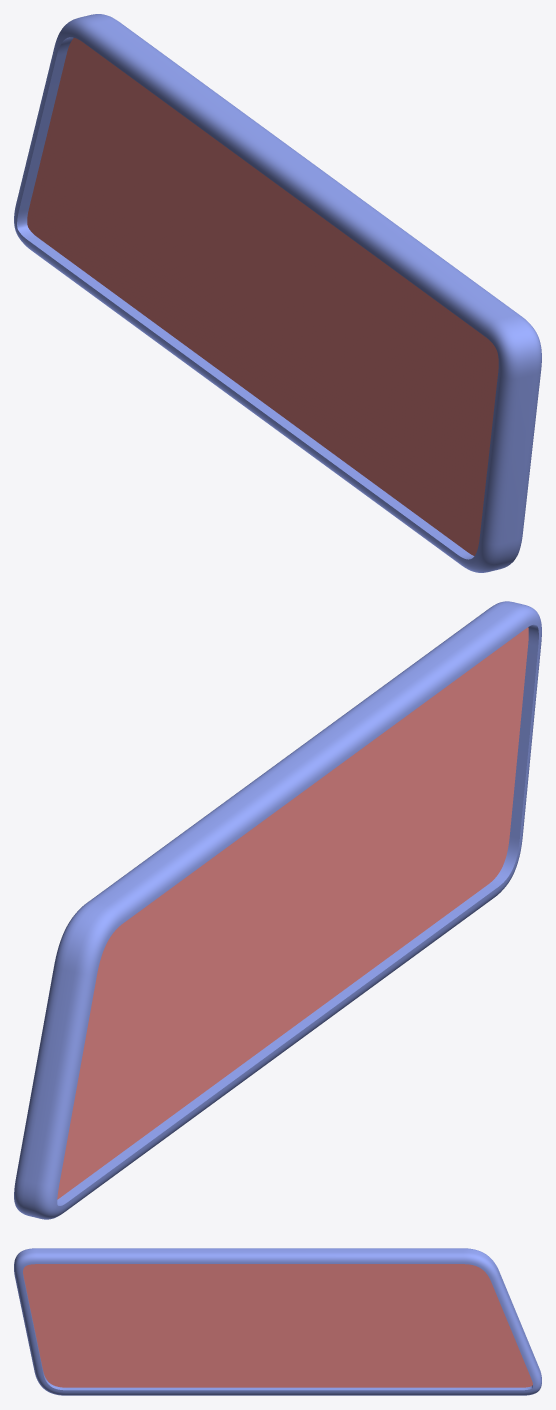
File: window.FBX
The picture shows the model from 3 angles, top to bottom: view 1: azimuth 30°, elevation 25°; view 2: azimuth 150°, elevation 25°; view 3: azimuth 270°, elevation 25°; orthographic projection. The views are drawn at different scales.
Visible parts, largest first — view 1: window; view 2: window; view 3: window.
Part boxes in pixels (x1,y1,x2,y2): window: (14, 14, 541, 572); window: (14, 601, 541, 1219); window: (14, 1248, 541, 1395).
Bounding box in the file's own units: 27.87 × 178 × 598.
